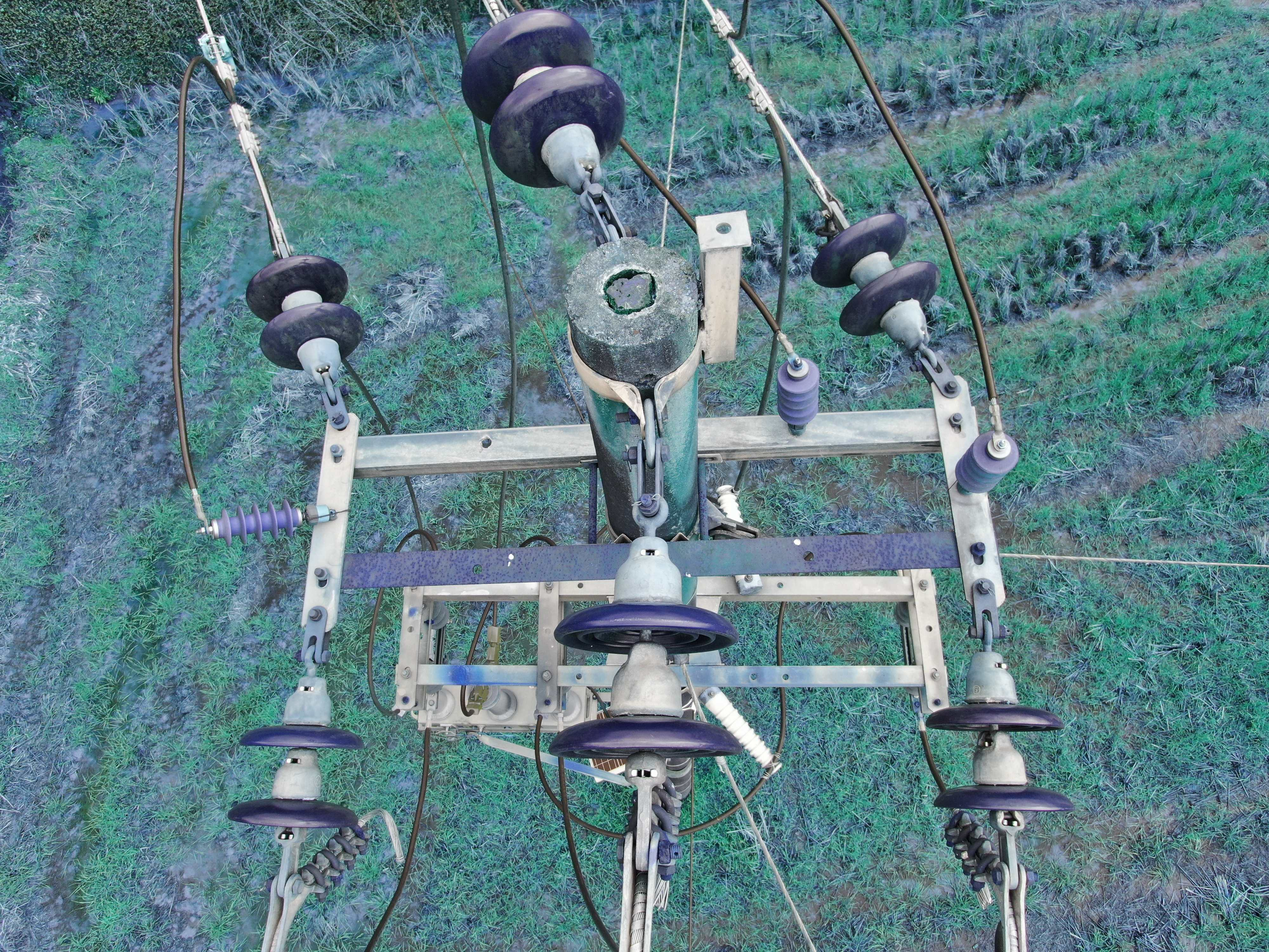severe_soiling_no_discharge_whole: (459, 5, 630, 197), (241, 251, 368, 388)
